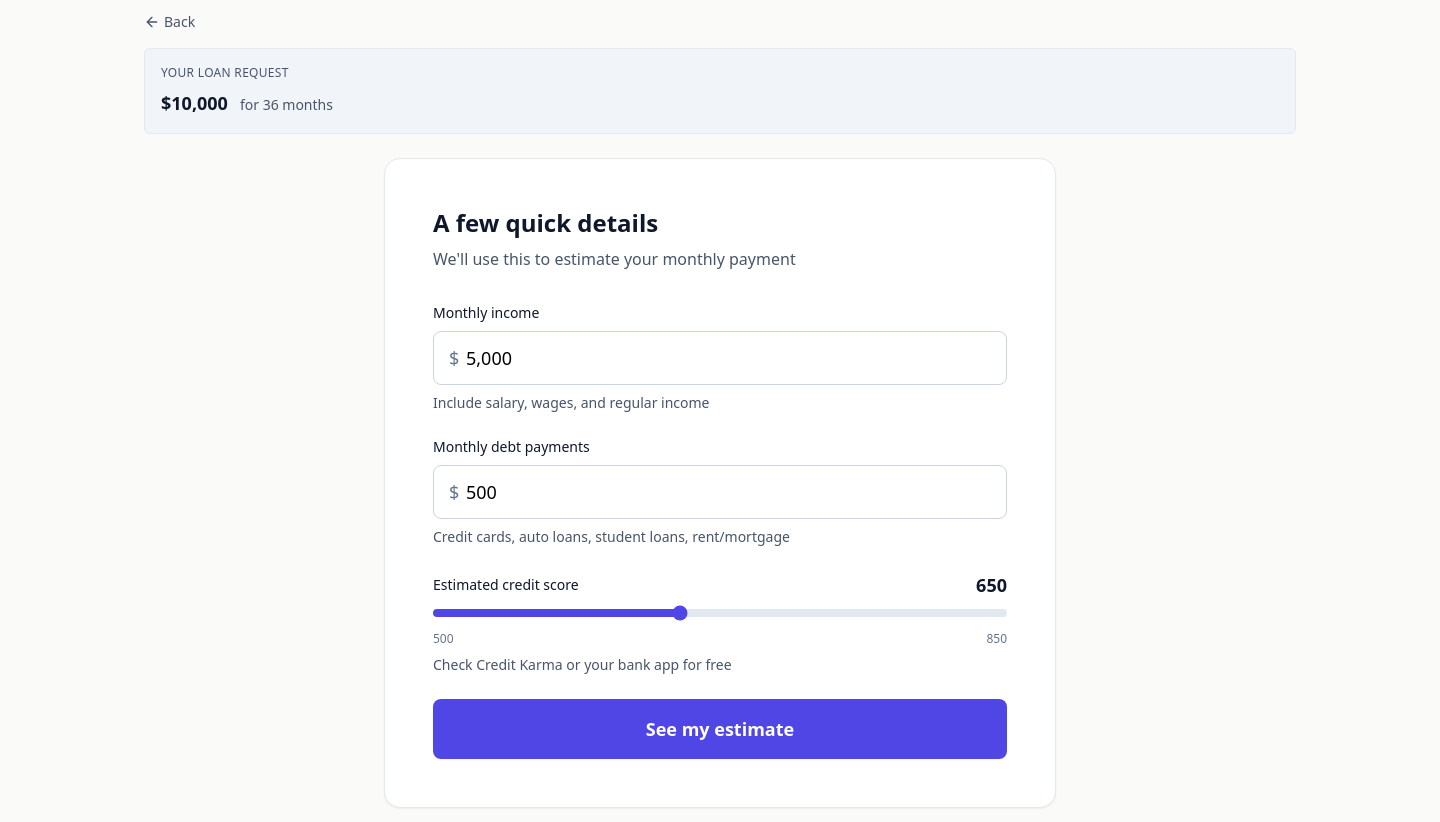
it: FinancialDetailsStep - Validation (Task 4.3) › Income validation › shows error when income exceeds maximum ($25,000)
Type "30000" into the field labelled "Monthly income".
click(720, 358); type("30000")  # box [433,331,1007,385]
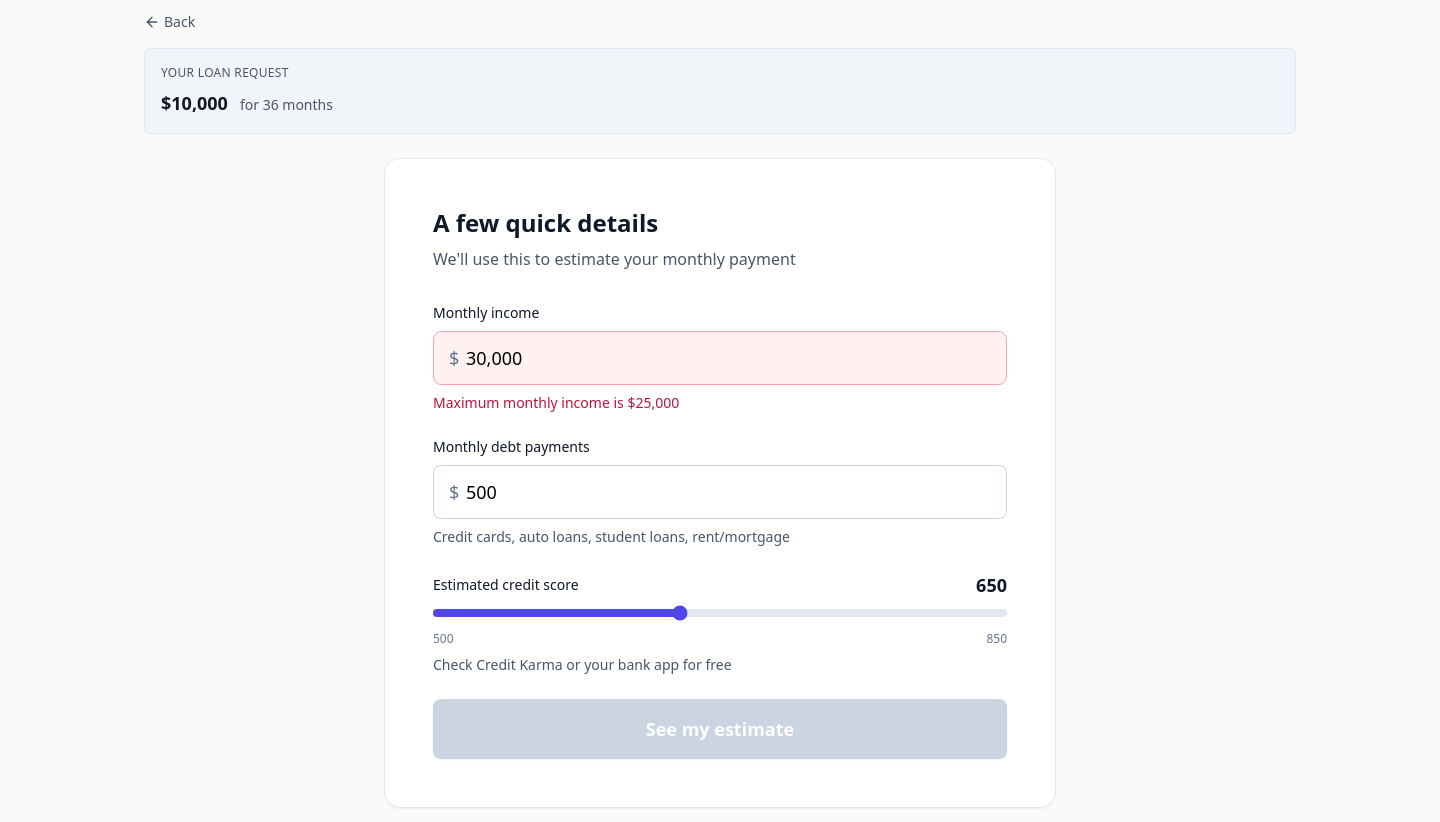
Expected: the text "Maximum monthly income is $25,000" is shown, [433,393,679,412]
